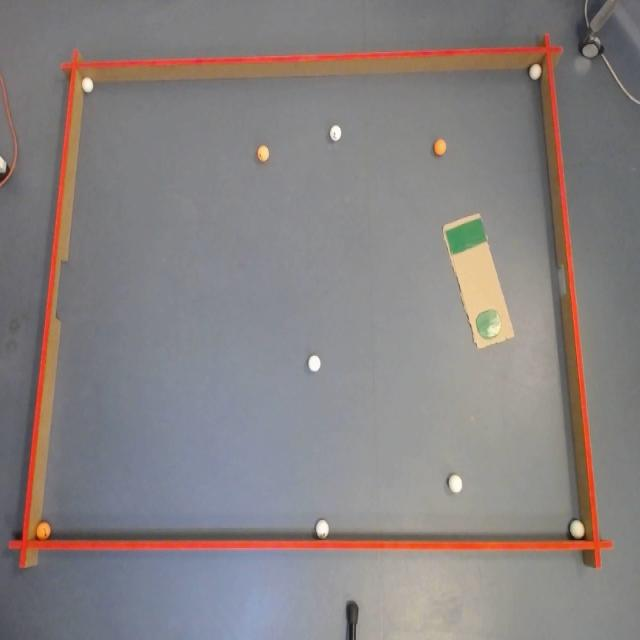orange_ball: (34, 521, 51, 541), (433, 138, 447, 156), (257, 145, 270, 162)
white_ball: (569, 519, 585, 540), (81, 74, 98, 92), (316, 518, 330, 538), (449, 474, 463, 494), (529, 62, 542, 80), (308, 355, 321, 372), (331, 125, 342, 141)
